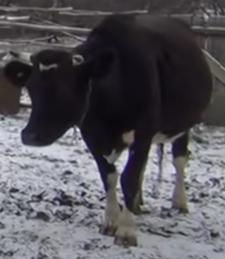cow: (20, 13, 212, 246)
